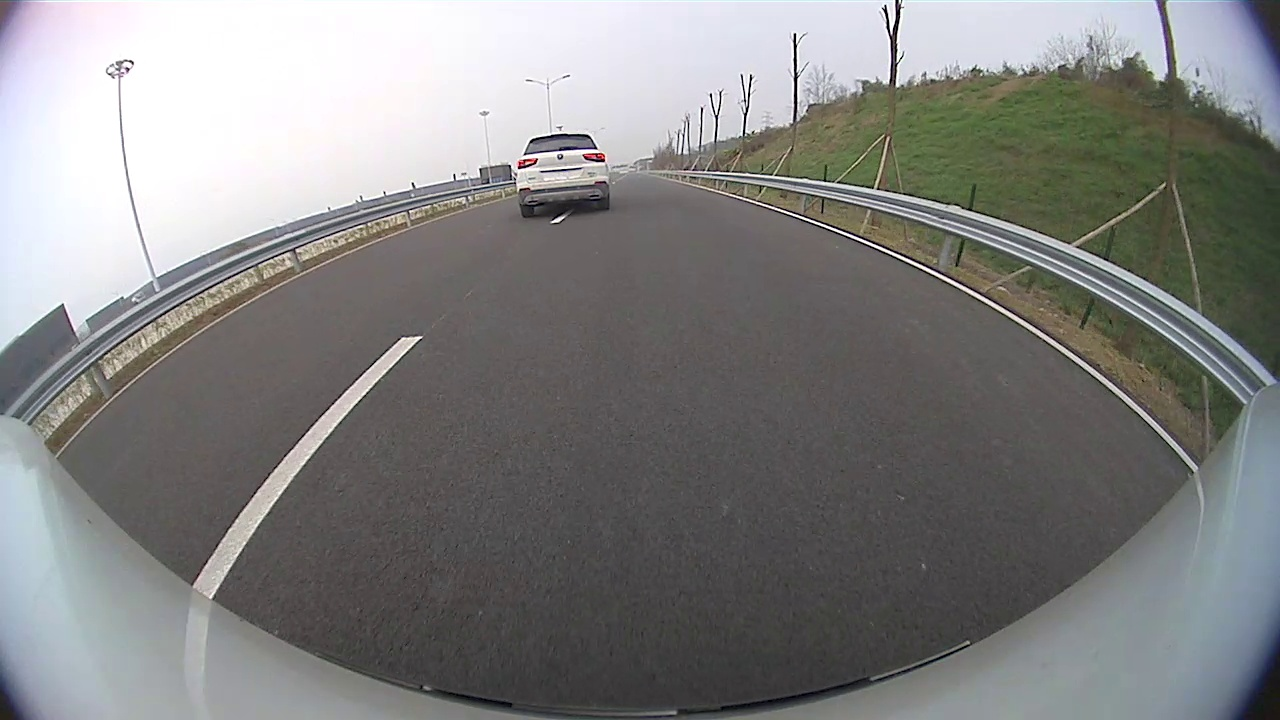car: (515, 132, 611, 218)
